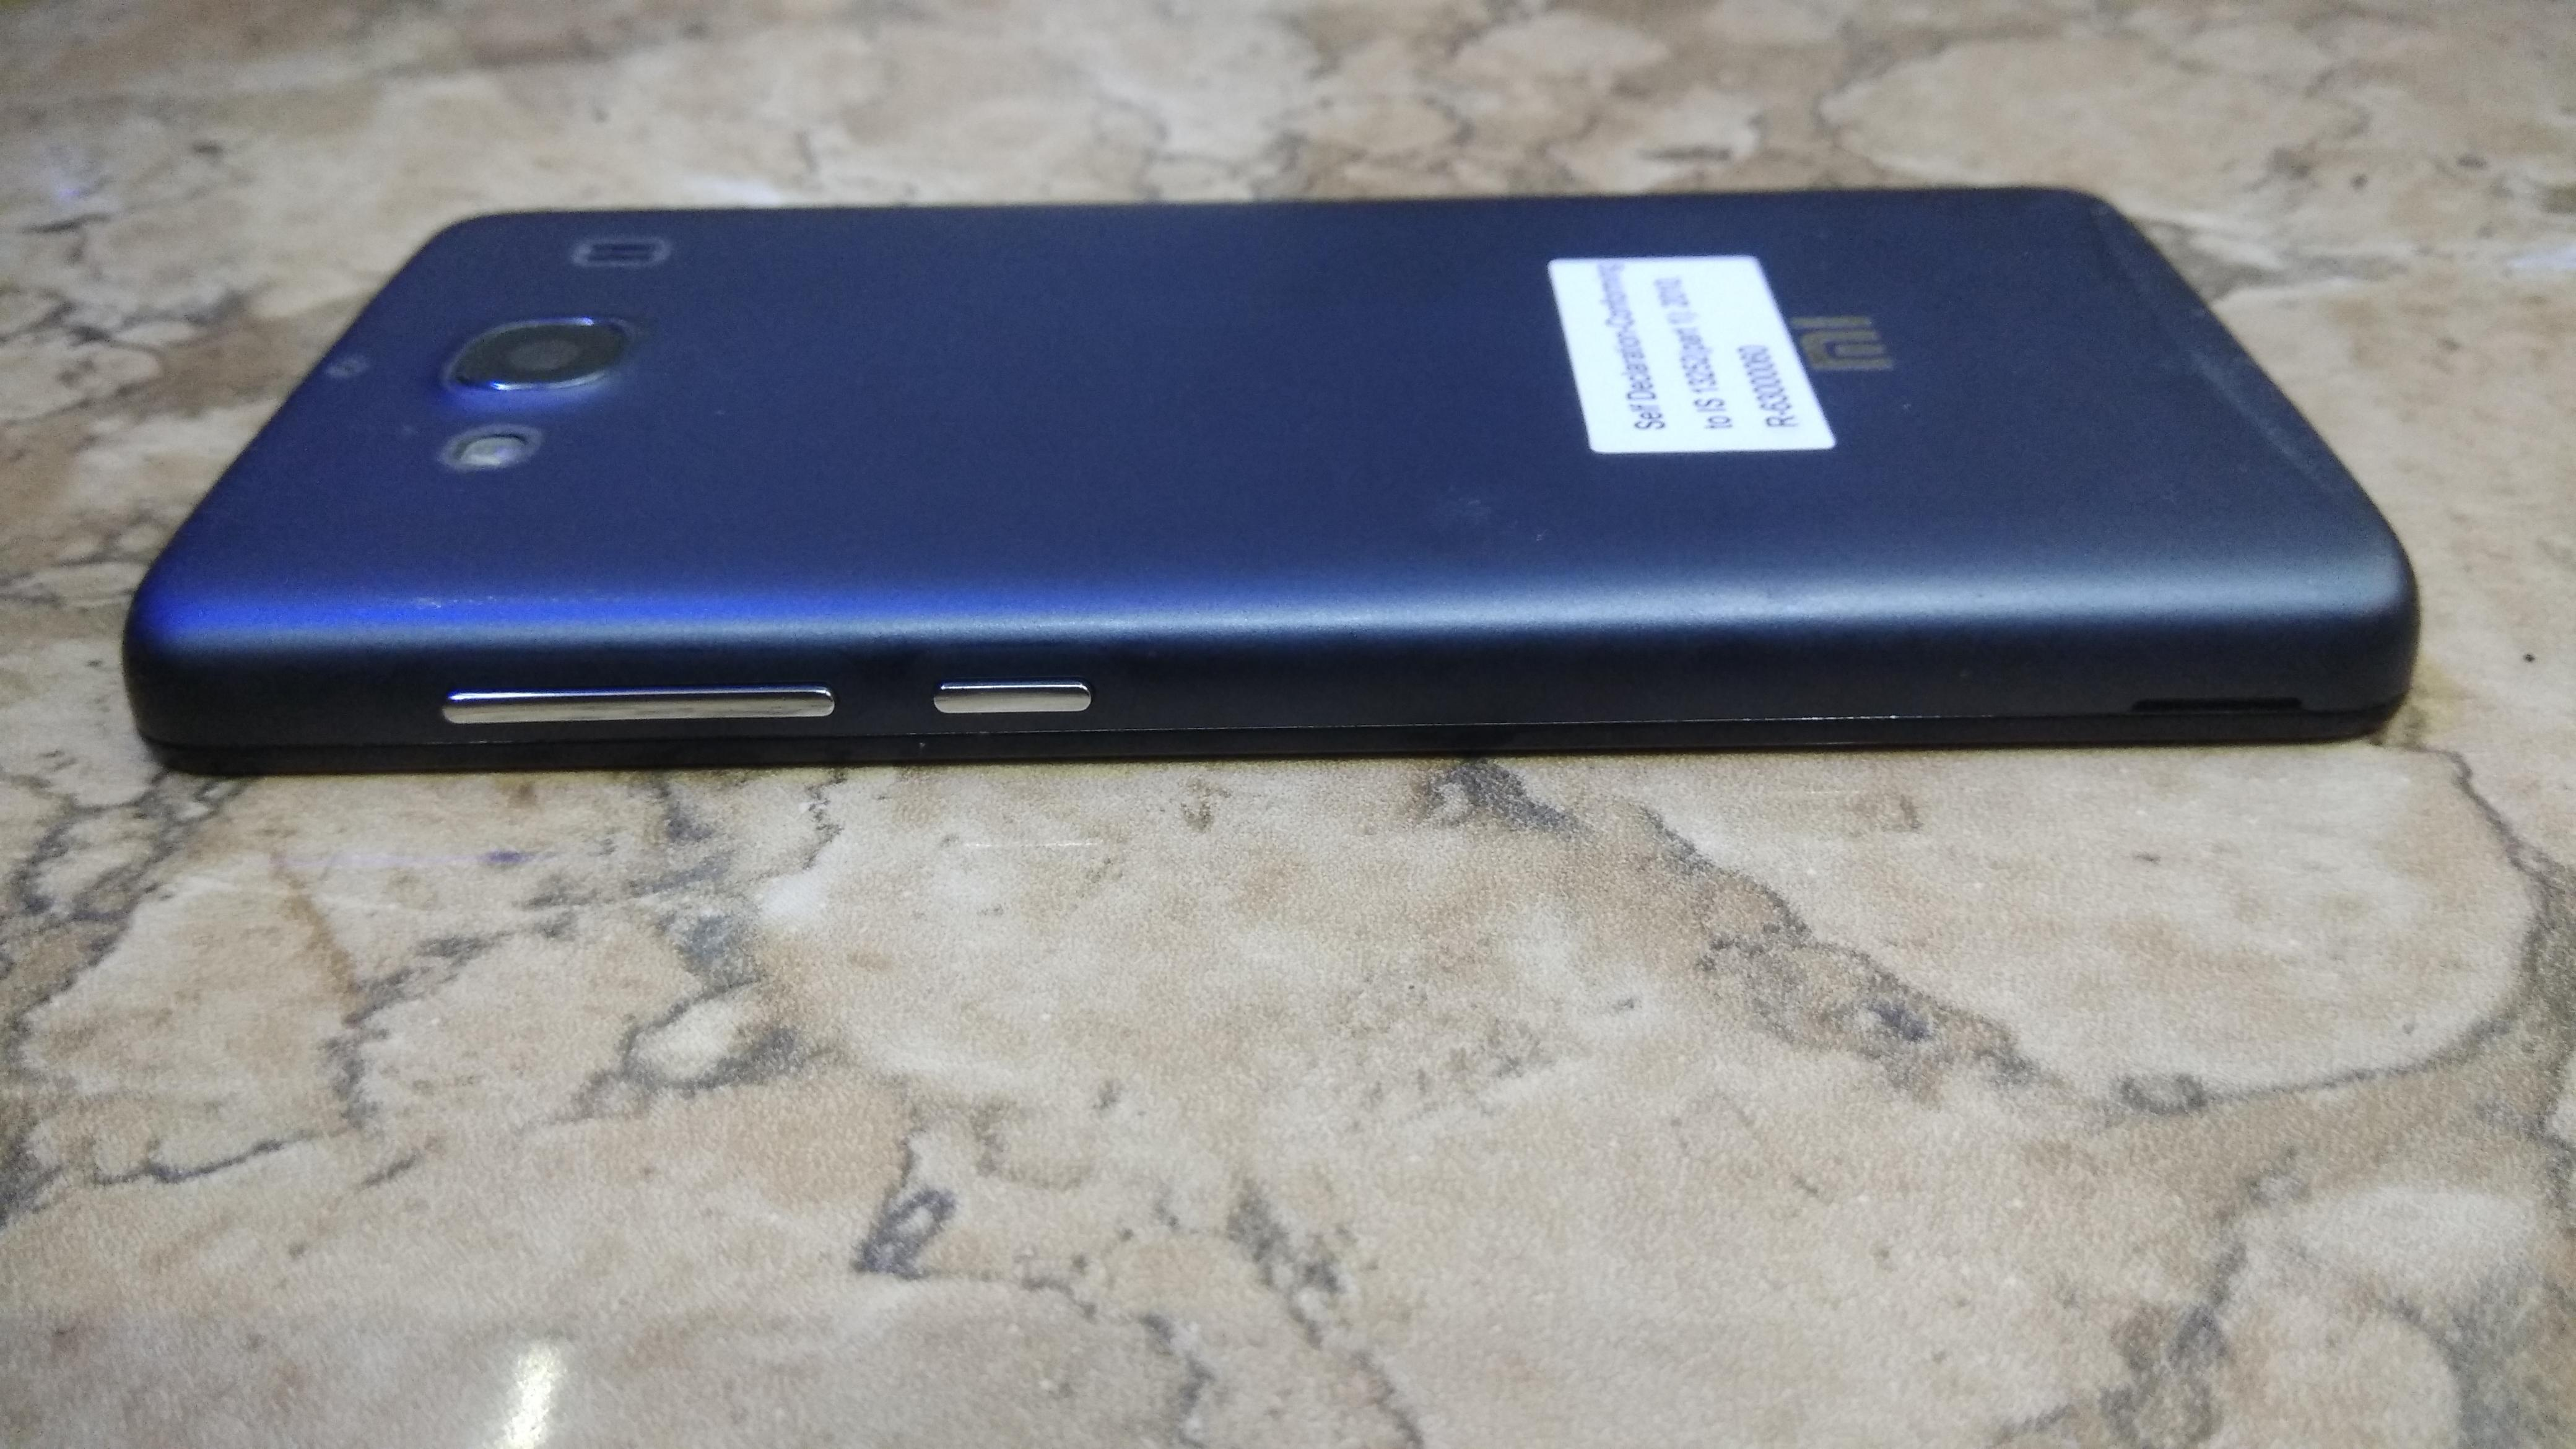Phone: (87, 133, 2470, 830)
